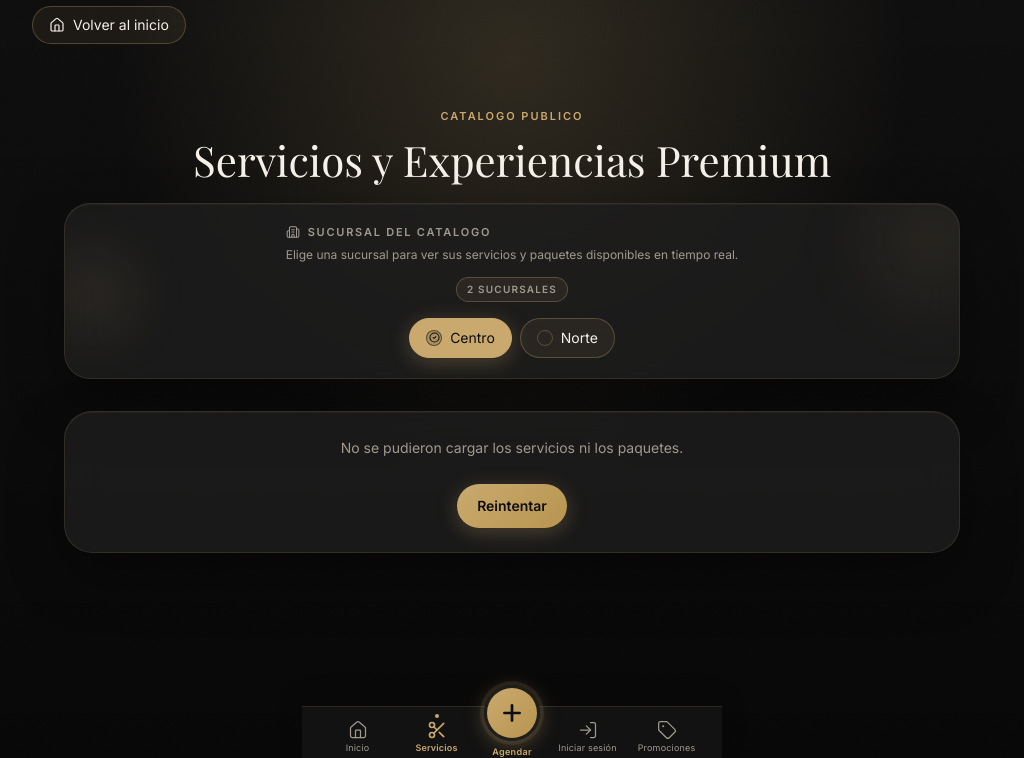
Test: catálogo público por sucursal › dos fallos muestran error general y permiten reintento
This screenshot has width=1024, height=758.
Expected: the text "No se pudieron cargar los servicios ni los paquetes." is shown, [341,439,683,456]
Click the button "Reintentar" at [512, 506], box [457,484,567,528]
(page scrolled)
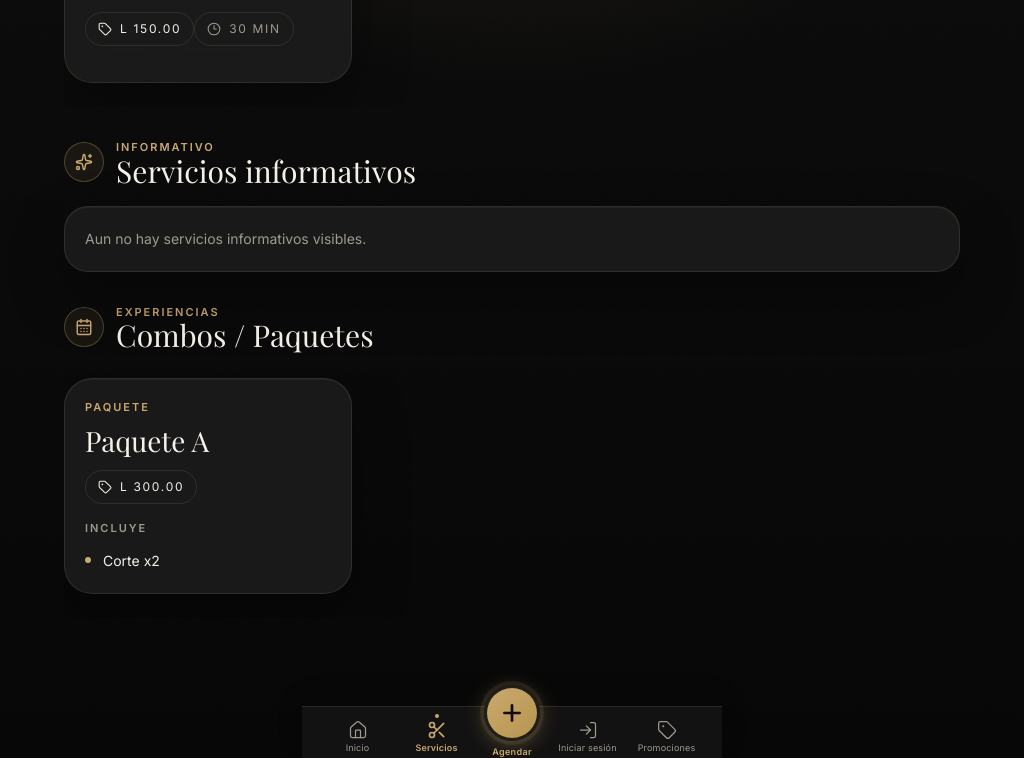
Result: the heading "Paquete A" is shown at [85,428,209,454]
